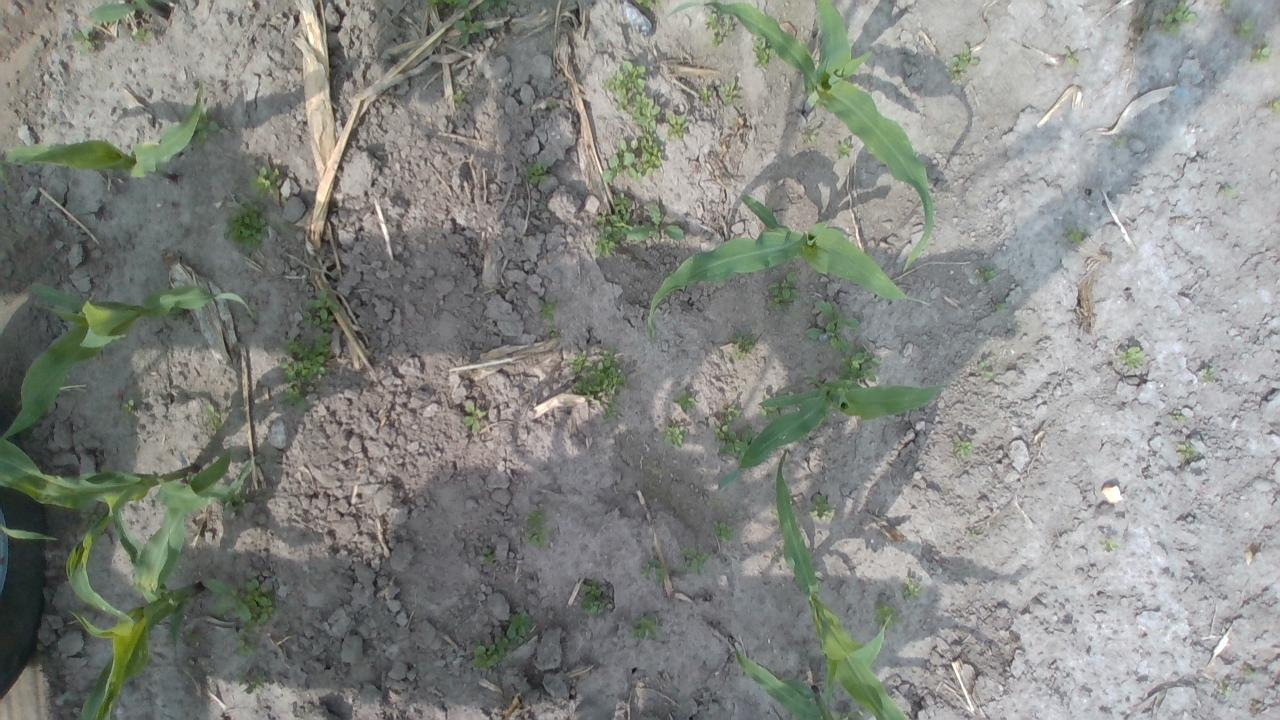Maize: (666, 1, 934, 274), (0, 438, 256, 606), (0, 282, 256, 440), (646, 193, 910, 339), (773, 449, 910, 720), (716, 378, 952, 491), (68, 564, 208, 720), (4, 82, 204, 184), (733, 647, 840, 720), (86, 0, 166, 27)
Weeds: (209, 578, 275, 628), (627, 204, 685, 244), (226, 200, 270, 252), (601, 138, 643, 182), (302, 290, 339, 330), (805, 300, 858, 327), (282, 332, 332, 360), (576, 366, 624, 395), (608, 61, 646, 95), (804, 323, 851, 350), (633, 95, 661, 138), (837, 351, 877, 381), (280, 357, 325, 382), (453, 8, 483, 44), (250, 167, 282, 197), (462, 400, 488, 436), (719, 429, 752, 457), (678, 546, 708, 576), (770, 271, 801, 300), (640, 138, 664, 175), (874, 601, 902, 629), (196, 108, 220, 140), (72, 25, 98, 54), (951, 43, 981, 68), (606, 212, 630, 242), (716, 77, 742, 104), (1118, 346, 1146, 371), (506, 610, 530, 638), (754, 37, 775, 67), (472, 644, 498, 668), (524, 161, 550, 185), (1170, 1, 1197, 24), (733, 332, 755, 360), (808, 494, 832, 519), (282, 387, 306, 410), (712, 520, 737, 542), (672, 390, 698, 411), (204, 404, 224, 431), (664, 424, 687, 447), (667, 114, 689, 138), (247, 668, 266, 694), (632, 613, 658, 632), (224, 490, 246, 512), (652, 560, 674, 582), (594, 236, 615, 258), (1235, 16, 1256, 38), (526, 528, 549, 548), (1251, 46, 1274, 66), (902, 578, 922, 600), (834, 139, 856, 159), (568, 353, 592, 371), (1159, 14, 1180, 34), (953, 436, 973, 456), (600, 350, 622, 368), (582, 598, 606, 614), (1176, 439, 1196, 458), (537, 298, 555, 319), (426, 0, 472, 8), (582, 581, 602, 599), (236, 640, 258, 656), (477, 0, 509, 11), (493, 637, 512, 655), (528, 510, 547, 528), (1067, 224, 1085, 243), (614, 192, 631, 212), (187, 626, 204, 646), (1098, 538, 1120, 553), (804, 126, 822, 144), (603, 400, 621, 418), (710, 30, 727, 49), (617, 92, 633, 112), (1064, 46, 1080, 66), (718, 15, 735, 32), (1222, 680, 1238, 698), (480, 548, 496, 566), (724, 404, 740, 422), (648, 460, 664, 478), (978, 360, 994, 378), (982, 266, 997, 284), (950, 64, 966, 80), (1200, 367, 1216, 383), (1242, 666, 1260, 680), (134, 28, 152, 42), (766, 296, 781, 311), (714, 424, 729, 439), (594, 209, 609, 224), (452, 89, 467, 104), (1251, 700, 1267, 714), (120, 398, 136, 412), (1112, 136, 1128, 149), (634, 1, 662, 8), (641, 564, 652, 581), (235, 670, 248, 684), (546, 99, 560, 112), (706, 13, 718, 28), (992, 302, 1010, 312), (701, 86, 712, 101), (761, 406, 777, 416), (1220, 186, 1236, 196), (631, 628, 646, 638), (1173, 413, 1185, 424), (1272, 98, 1280, 114), (547, 326, 559, 336), (1218, 1, 1231, 10), (539, 200, 548, 212), (968, 530, 981, 538), (648, 484, 656, 492), (1256, 551, 1262, 560)
